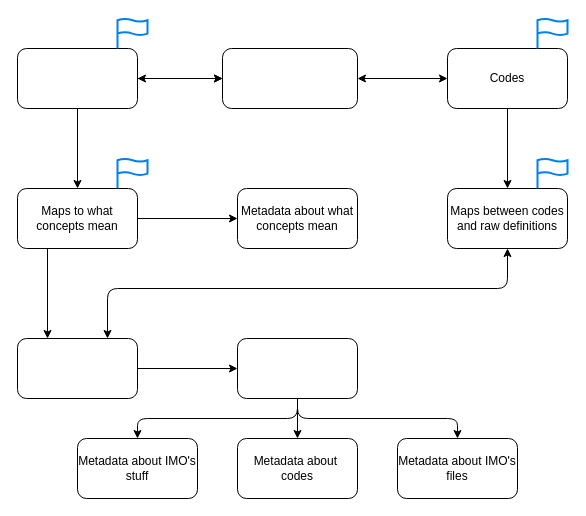
Some shapes in this 586 by 516 pixel diagram are drawn without their labels. Each missing label, with the box of its shape:
Maps between medical concepts and codes: (222, 48, 358, 108)
Maps to stuff we want customers to see: (16, 338, 138, 398)
Stuff that goes out the door: (236, 338, 358, 398)
The "idea" of a medical concept: (16, 48, 138, 108)
